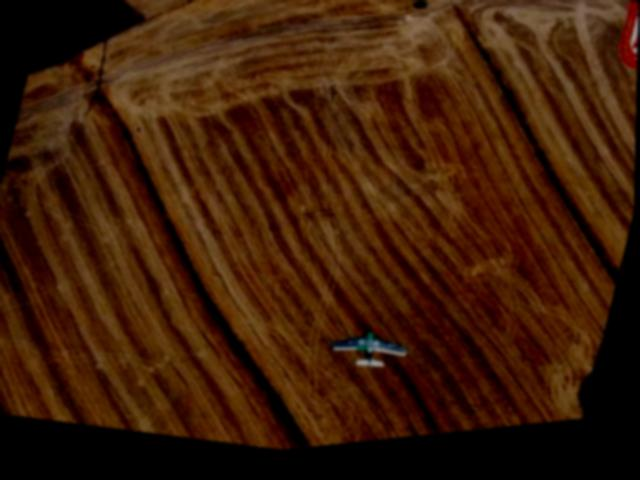uav: (322, 319, 418, 389)
